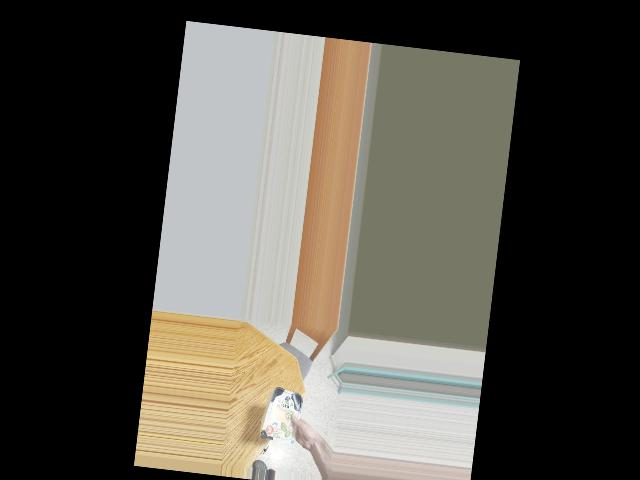cheese: (262, 389, 310, 437)
